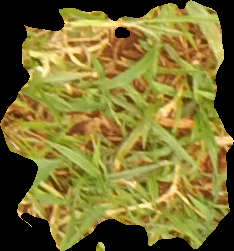grass: (1, 1, 232, 250)
